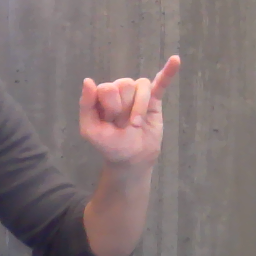I: (73, 53, 181, 166)
